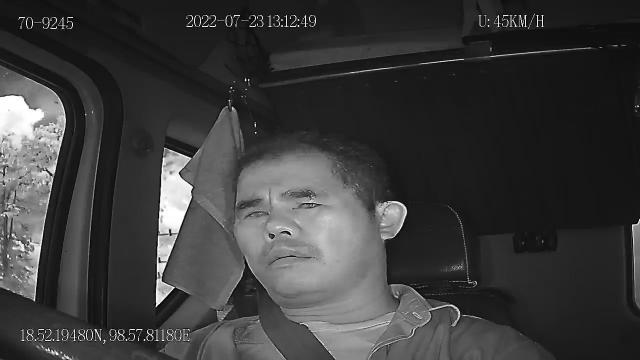SafeDriving: (286, 188, 329, 216), (237, 202, 276, 225)
Seatbelt: (257, 294, 337, 360)
